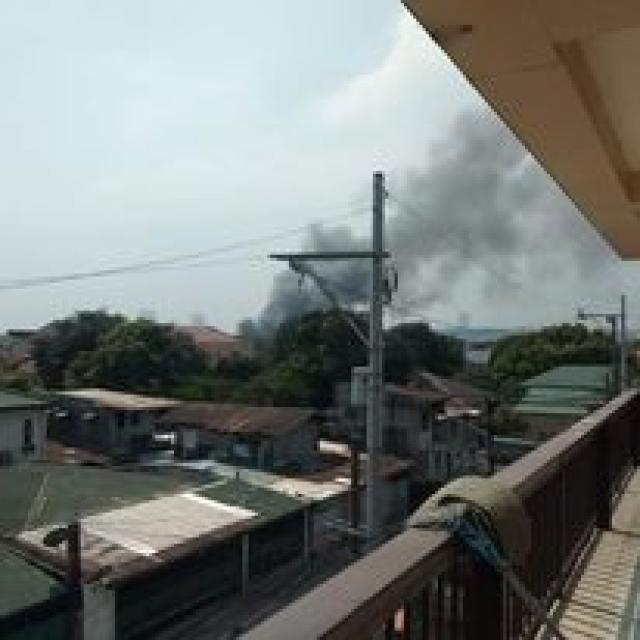Smoke: (240, 93, 545, 350)
